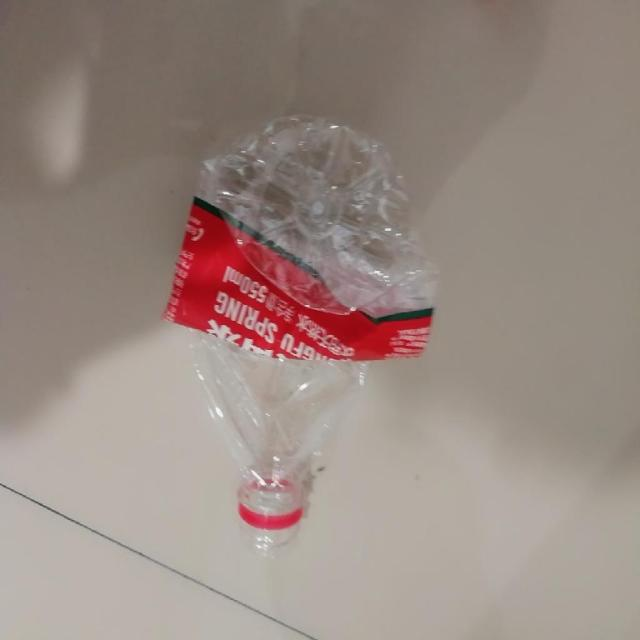-Recyclables - plastic bottle-: (166, 117, 440, 549)
